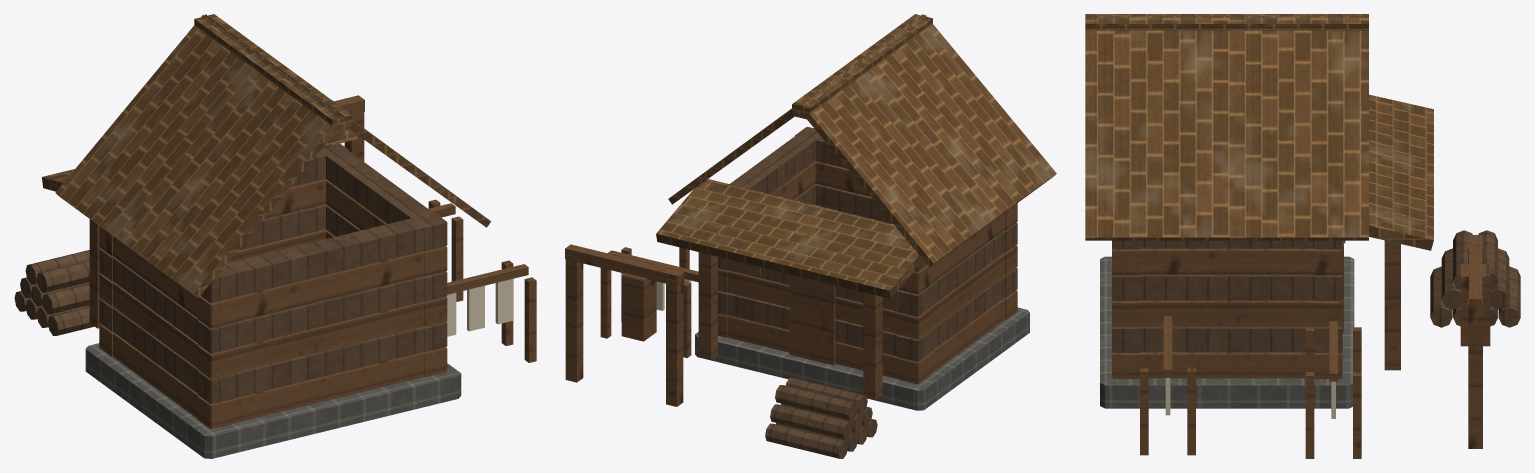
File: hunting.gltf
3 renders of one model, left to right at view 1: azimuth 30°, elevation 25°; view 2: azimuth 150°, elevation 25°; view 3: azimuth 270°, elevation 25°, orthographic. The views are drawn at different scales.
Parts seen in each view (by area): view 1: Hunting; view 2: Hunting; view 3: Hunting.
Boxes of the visible parts, x1,y1,x2,y2 form: Hunting: (14,14,536,458); Hunting: (565,14,1056,458); Hunting: (1085,14,1520,458).
Size of the model in its own units: 3.05 by 2.45 by 2.95.
8 materials, 6 textured.
